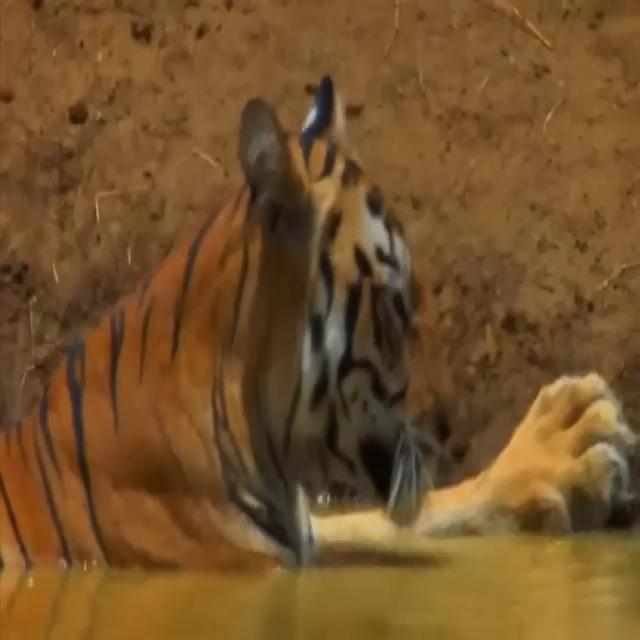tiger: (0, 70, 640, 573)
